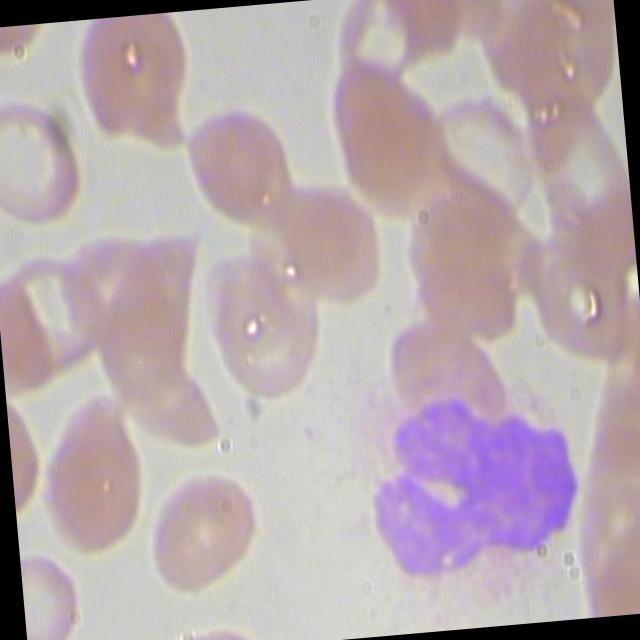RBC: (195, 234, 336, 412), (29, 385, 160, 565), (400, 185, 530, 352), (71, 10, 204, 172), (142, 449, 272, 596), (264, 170, 390, 308), (518, 233, 636, 370), (180, 102, 302, 234), (0, 89, 92, 232)
WBC: (300, 346, 610, 640)
